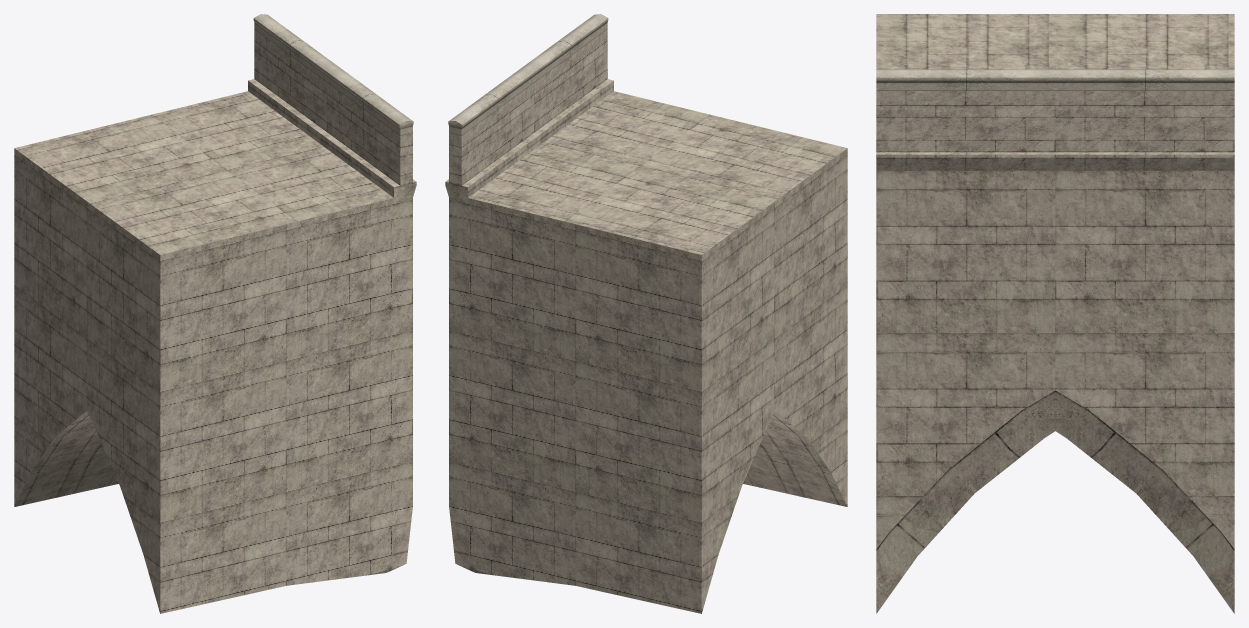
File: DoubleAbutmentDouble.dae
The picture shows the model from 3 angles, left to right: view 1: azimuth 30°, elevation 25°; view 2: azimuth 150°, elevation 25°; view 3: azimuth 270°, elevation 25°; orthographic projection. The views are drawn at different scales.
Parts seen in each view (by area): view 1: DoubleAbutmentDouble; view 2: DoubleAbutmentDouble; view 3: DoubleAbutmentDouble.
Boxes of the visible parts, x1,y1,x2,y2 form: DoubleAbutmentDouble: (14, 14, 416, 613); DoubleAbutmentDouble: (445, 14, 847, 613); DoubleAbutmentDouble: (876, 14, 1234, 613).
Size of the model in its own units: 4.06 by 6.76 by 4.
Materials: 2 (2 with a texture image).
